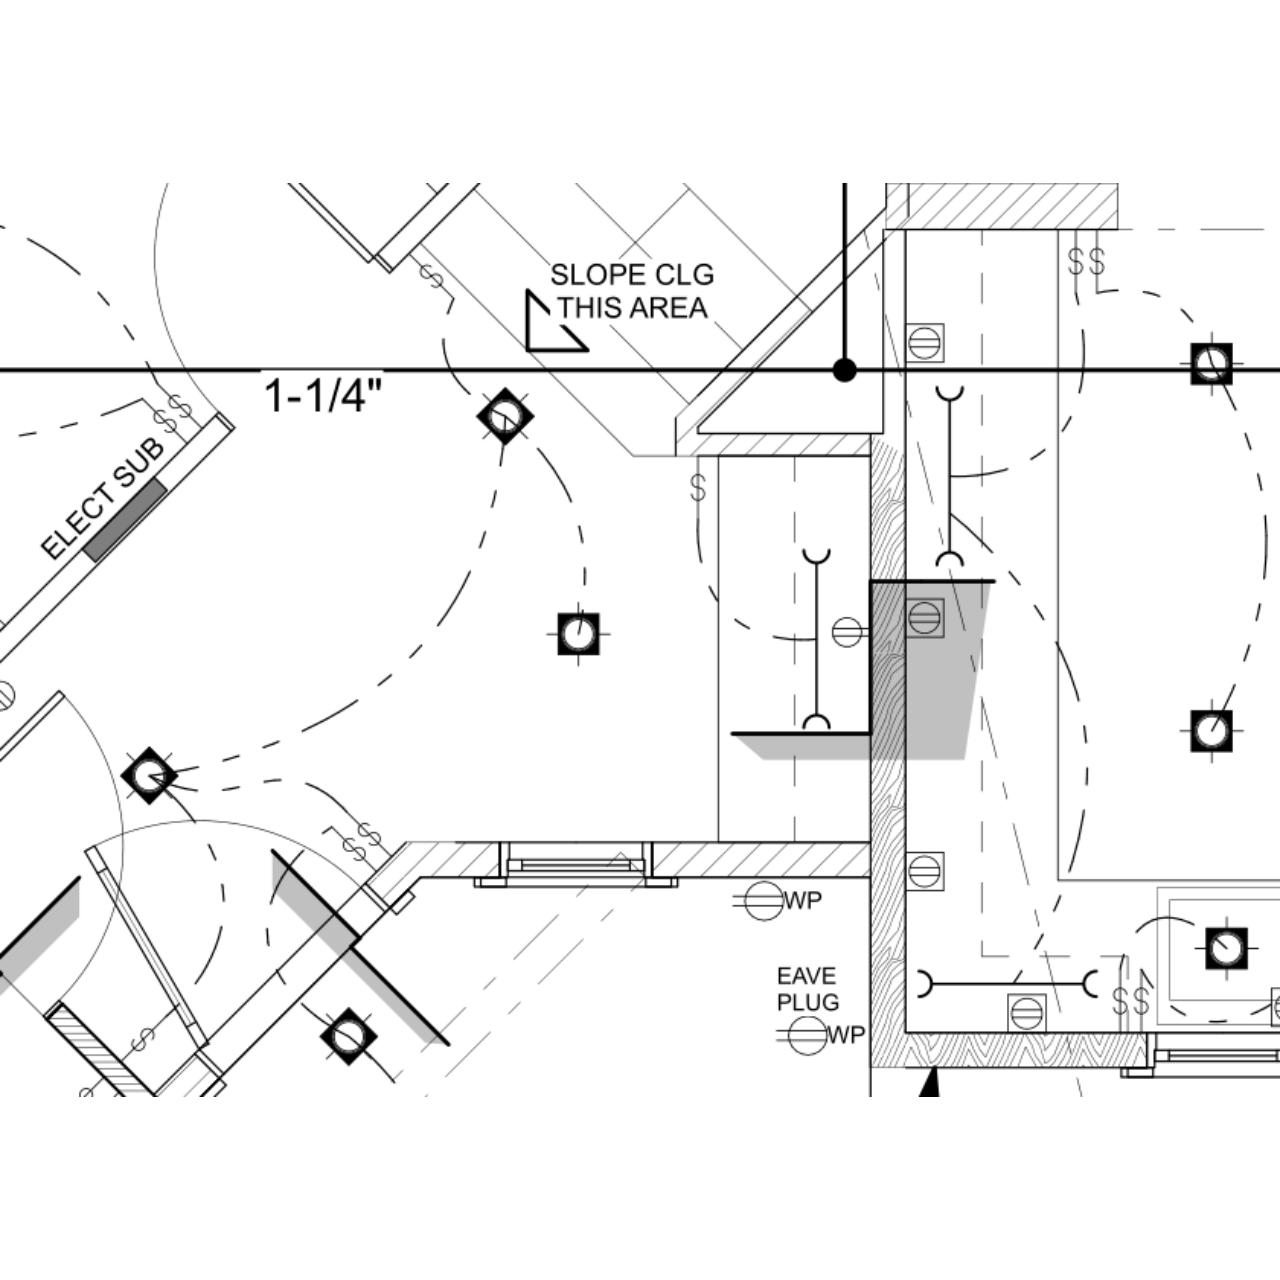Duplex Outlet: (831, 617, 870, 647), (0, 675, 23, 719)
GFCIOutlet: (904, 320, 946, 366), (908, 598, 946, 638), (906, 853, 944, 891), (1008, 994, 1046, 1032), (1271, 985, 1280, 1027)
Switch: (402, 245, 462, 309), (138, 392, 196, 451), (154, 377, 212, 435), (340, 808, 397, 862), (325, 821, 381, 873), (123, 1019, 161, 1060), (1068, 230, 1084, 292), (1089, 231, 1105, 293), (688, 458, 706, 516), (1112, 969, 1128, 1032), (1133, 971, 1149, 1032), (69, 1074, 105, 1097), (103, 1090, 115, 1097), (105, 1088, 108, 1092)
WaterProof GFCI: (730, 874, 824, 927), (771, 1014, 869, 1060)
ress_can_light: (1193, 918, 1259, 982), (1180, 699, 1244, 763), (1179, 331, 1242, 395), (547, 602, 611, 666), (476, 384, 536, 445), (120, 747, 178, 808), (320, 1006, 379, 1067)
